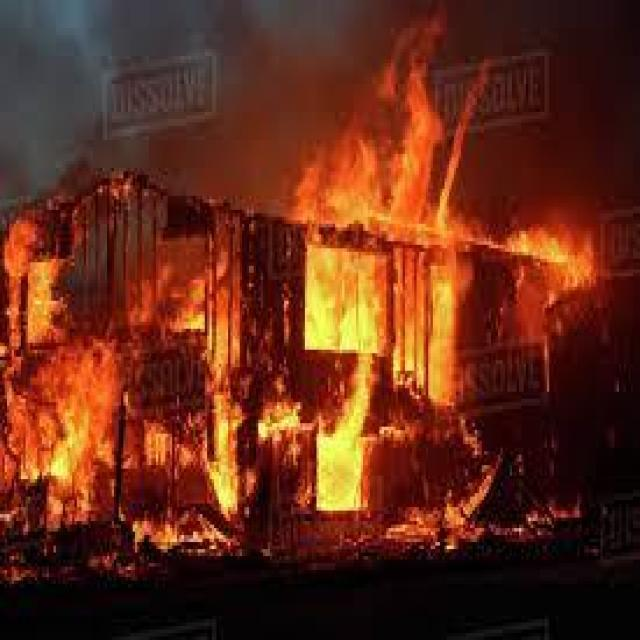Fire: (291, 10, 457, 564), (0, 177, 242, 548), (503, 225, 620, 363)
Smoke: (6, 6, 274, 169), (479, 10, 618, 212)
